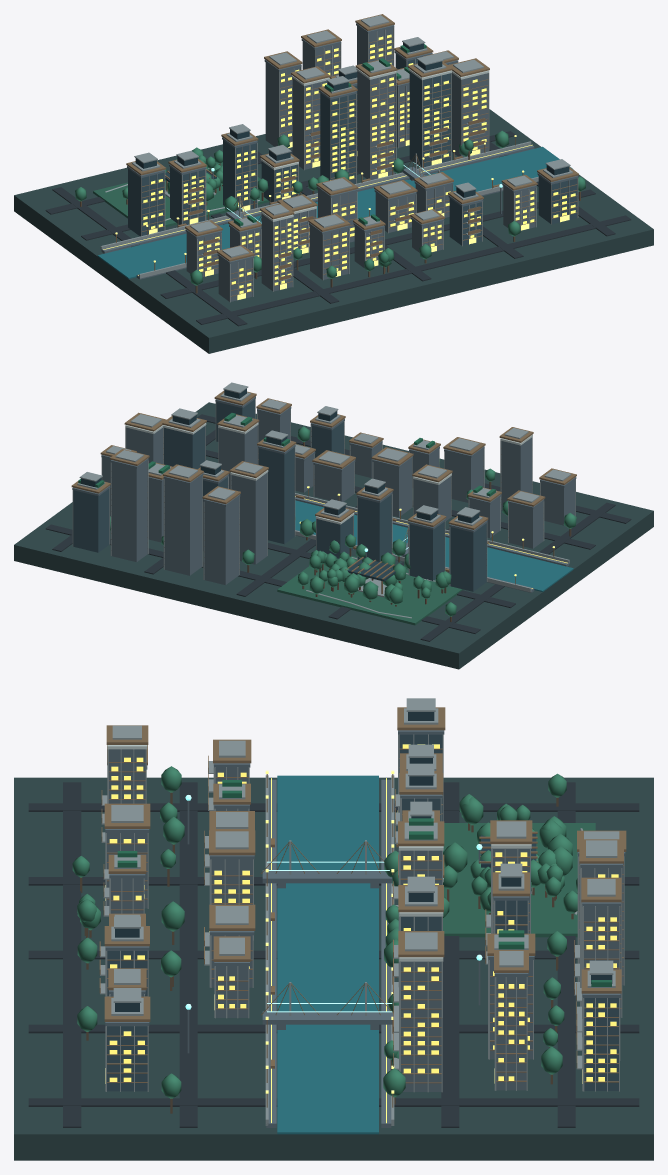
File: city.glb
The picture shows the model from 3 angles, top to bottom: view 1: azimuth 30°, elevation 25°; view 2: azimuth 150°, elevation 25°; view 3: azimuth 270°, elevation 25°; orthographic projection. The views are drawn at different scales.
Parts seen in each view (by area): view 1: District foundation, Detail_Detail architectural limestone, Detail_Detail brushed bronze, River corridor, Building_20, Building_24, Avenue, Building_15, Building_28, Building_03, Building_16, Building_17 (+28 smaller); view 2: District foundation, Detail_Detail architectural limestone, Detail_Detail brushed bronze, Riverside park, Building_22, Building_26, River corridor, Building_17, Building_15, Building_16, Building_03, Building_30 (+29 smaller); view 3: District foundation, River corridor, Detail_Detail architectural limestone, Detail_Detail brushed bronze, Riverside park, Avenue, Avenue.001, Building_28, Cross street.004, Avenue.002, Avenue.003, Building_29 (+25 smaller).
Boxes of the visible parts, x1,y1,x2,y2 form: District foundation: [14, 109, 653, 353]; Detail_Detail architectural limestone: [100, 15, 578, 302]; Detail_Detail brushed bronze: [116, 14, 578, 296]; River corridor: [97, 146, 573, 278]; Building_20: [357, 71, 395, 179]; Building_24: [409, 71, 450, 167]; Avenue: [196, 215, 631, 324]; Building_15: [320, 93, 355, 183]; Building_28: [451, 73, 488, 157]; Building_03: [128, 169, 164, 236]; Building_16: [292, 78, 327, 169]; Building_17: [265, 62, 300, 146]; District foundation: [14, 402, 653, 669]; Detail_Detail architectural limestone: [72, 382, 575, 597]; Detail_Detail brushed bronze: [71, 390, 576, 593]; Riverside park: [277, 555, 463, 625]; Building_22: [164, 476, 202, 575]; Building_26: [111, 461, 147, 562]; River corridor: [295, 500, 573, 591]; Building_17: [204, 497, 239, 584]; Building_15: [258, 447, 294, 544]; Building_16: [231, 473, 267, 564]; Building_03: [450, 523, 486, 591]; Building_30: [73, 489, 109, 552]; District foundation: [14, 777, 653, 1160]; River corridor: [277, 775, 378, 1134]; Detail_Detail architectural limestone: [100, 698, 624, 1125]; Detail_Detail brushed bronze: [99, 707, 626, 1107]; Riverside park: [443, 823, 595, 937]; Avenue: [63, 782, 81, 1127]; Avenue.001: [179, 782, 197, 1127]; Building_28: [401, 961, 441, 1091]; Cross street.004: [28, 1098, 639, 1106]; Avenue.002: [441, 782, 459, 1127]; Avenue.003: [557, 782, 575, 1127]; Building_29: [496, 977, 526, 1090].
Size of the model in its own units: 29 by 8 by 22.
